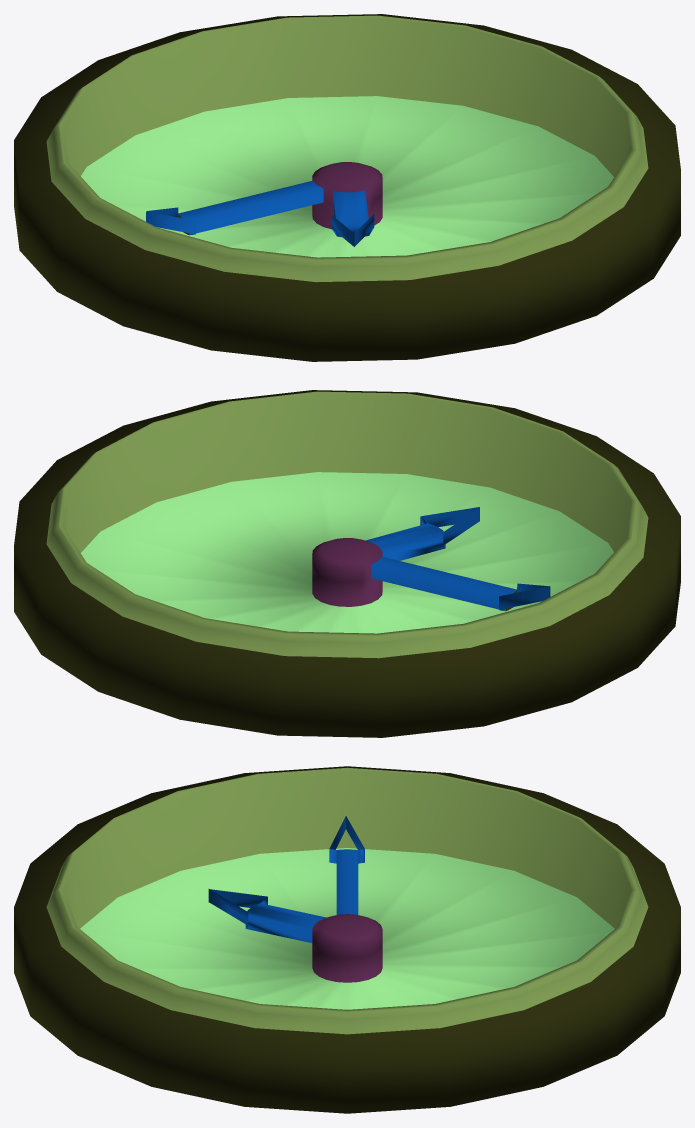
The model's file is clock.fbx.
The picture shows the model from 3 angles, top to bottom: view 1: azimuth 30°, elevation 25°; view 2: azimuth 150°, elevation 25°; view 3: azimuth 270°, elevation 25°; orthographic projection.
Visible parts, largest first — view 1: Cylinder; view 2: Cylinder; view 3: Cylinder.
Part boxes in pixels (bbox=[...]): Cylinder: bbox=[14, 14, 680, 361]; Cylinder: bbox=[14, 390, 680, 737]; Cylinder: bbox=[14, 766, 680, 1113].
Bounding box in the file's own units: 700 × 96.05 × 700.
